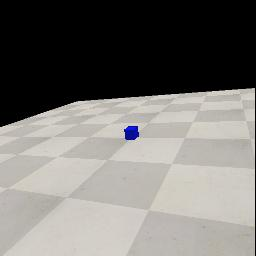box: (124, 126, 139, 140)
